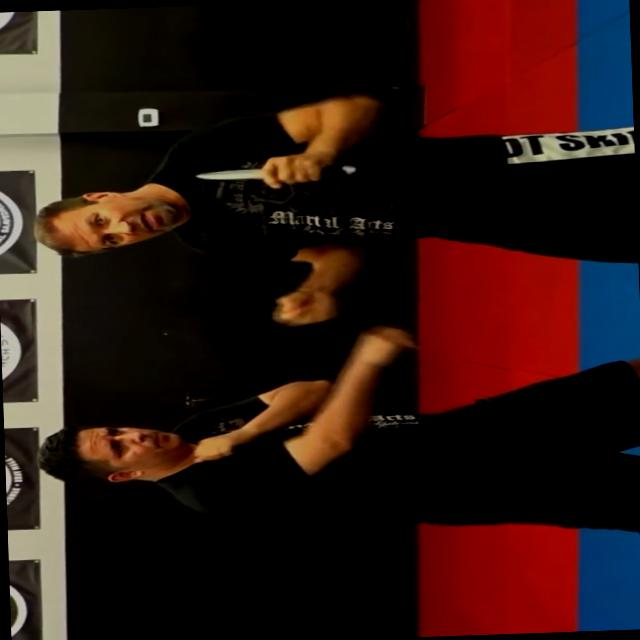knife: (184, 150, 362, 190)
